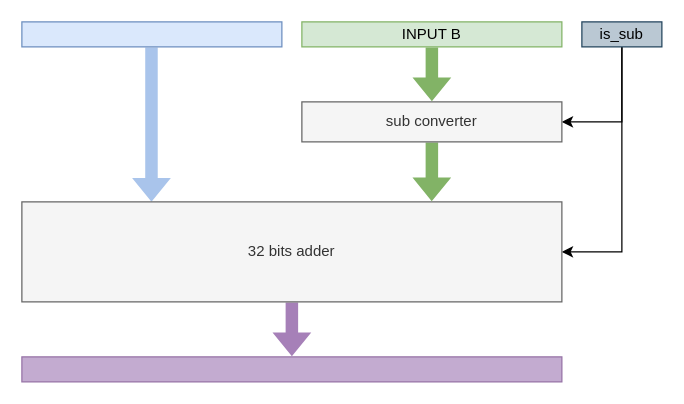
Some shapes in this 684 by 404 pixel diagram are drawn without their labels. The box of each missing label's shape, as (x1, y1, x2, y2) in pixels:
INPUT A: (21, 21, 282, 47)
OUTPUT: (21, 356, 562, 382)
